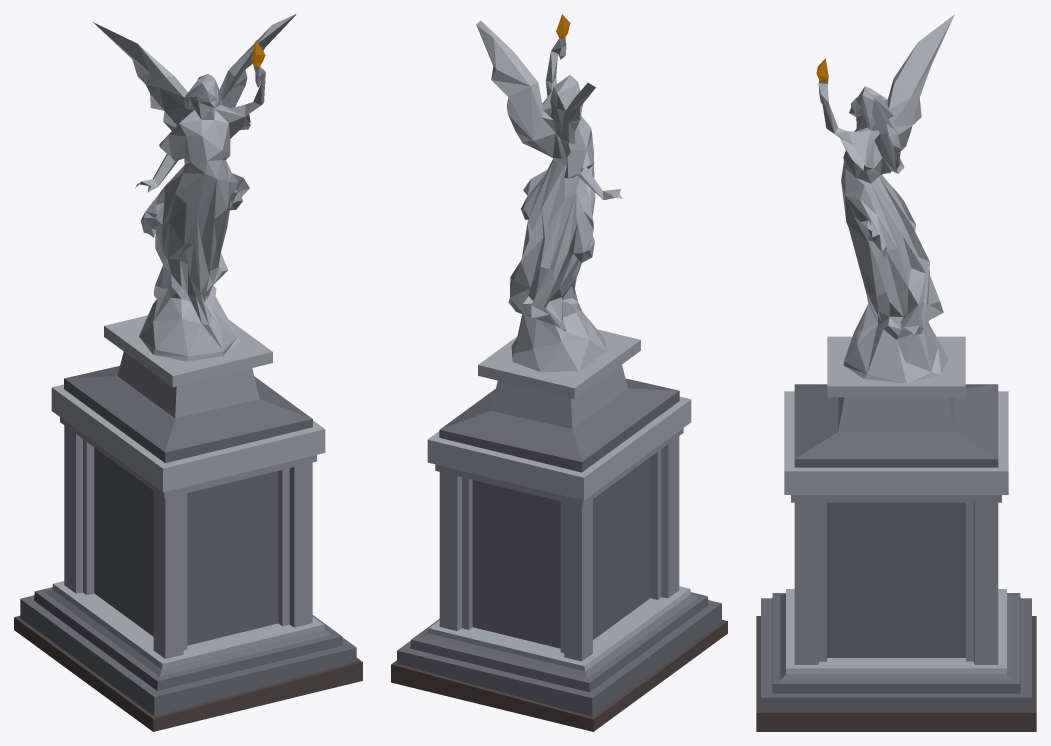
File: HWN20_Grave_28.glb
The picture shows the model from 3 angles, left to right: view 1: azimuth 30°, elevation 25°; view 2: azimuth 150°, elevation 25°; view 3: azimuth 270°, elevation 25°; orthographic projection. The views are drawn at different scales.
Visible parts, largest first — view 1: HWN20_Grave_28; view 2: HWN20_Grave_28; view 3: HWN20_Grave_28.
Boxes of the visible parts, bbox=[...] form: HWN20_Grave_28: bbox=[14, 14, 362, 731]; HWN20_Grave_28: bbox=[391, 14, 727, 731]; HWN20_Grave_28: bbox=[756, 14, 1036, 731].
Size of what is drawn, in the model's own units: 1.48 by 4.26 by 1.7.
2 materials, 2 textured.
